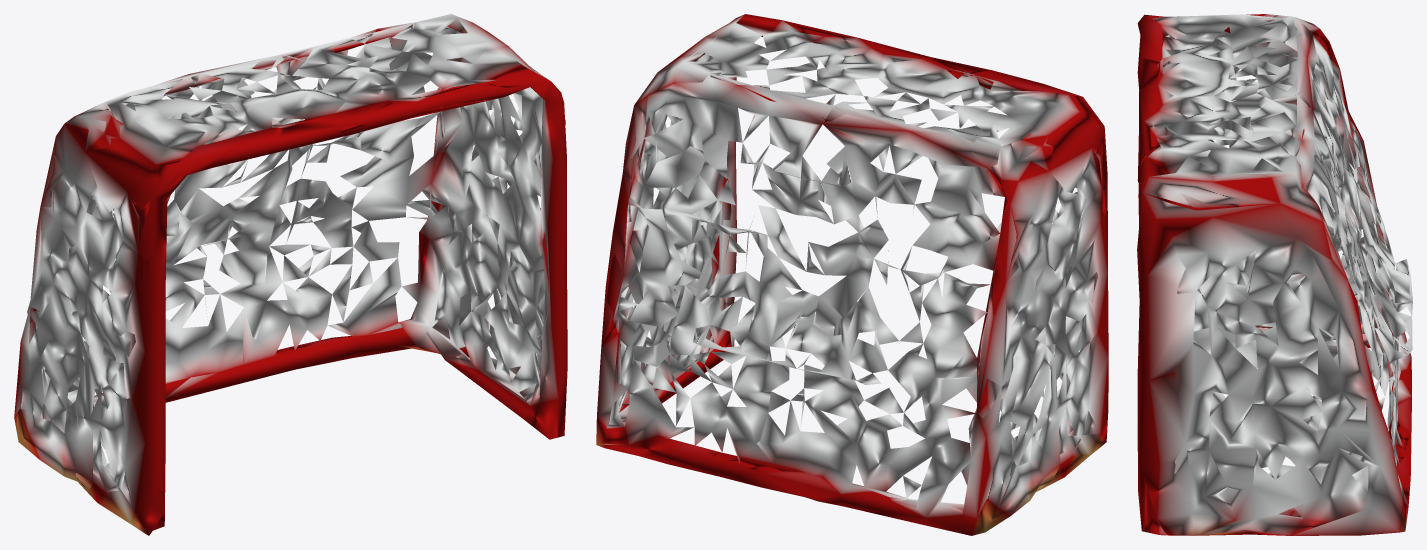
Rendered from gen3d-hockey-goal-lod0.glb.
3 views of the same model, side by side, from view 1: azimuth 30°, elevation 25°; view 2: azimuth 150°, elevation 25°; view 3: azimuth 270°, elevation 25° (orthographic). The views are drawn at different scales.
Parts seen in each view (by area): view 1: part_0; view 2: part_0; view 3: part_0.
Boxes of the visible parts, x1=… form: part_0: x1=14, y1=14, x2=567, y2=535; part_0: x1=596, y1=14, x2=1108, y2=535; part_0: x1=1137, y1=14, x2=1412, y2=535.
Size of the model in its own units: 1.19 by 0.9978 by 0.7157.
